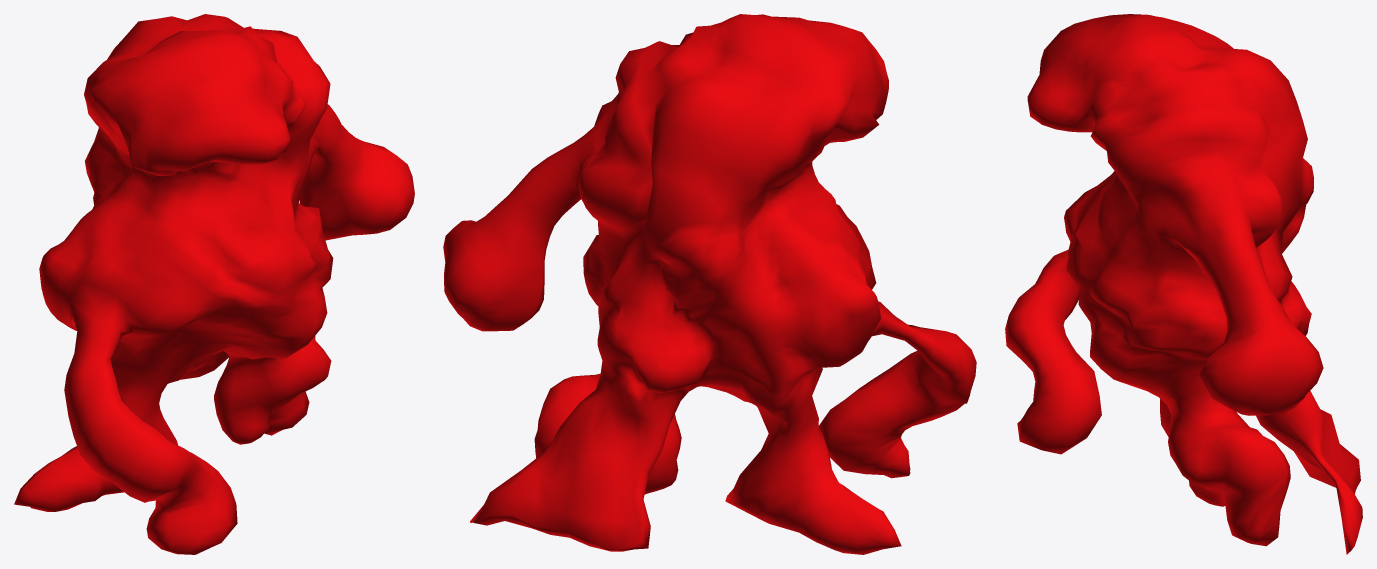
File: diplomdarbs_TEST_RETOP_BAKE.glb
3 views of the same model, side by side, from view 1: azimuth 30°, elevation 25°; view 2: azimuth 150°, elevation 25°; view 3: azimuth 270°, elevation 25° (orthographic). The views are drawn at different scales.
Visible parts, largest first — view 1: Plane.002; view 2: Plane.002; view 3: Plane.002.
Part boxes in pixels (x1,y1,x2,y2): Plane.002: [14, 14, 414, 554]; Plane.002: [443, 14, 976, 554]; Plane.002: [1005, 14, 1362, 554].
Bounding box in the file's own units: 3.13 × 3.31 × 2.37.
